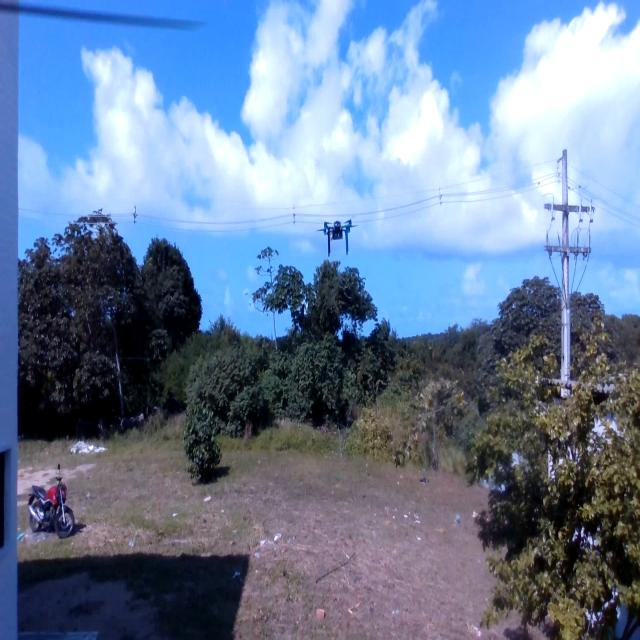-uav-: (317, 209, 361, 272)
